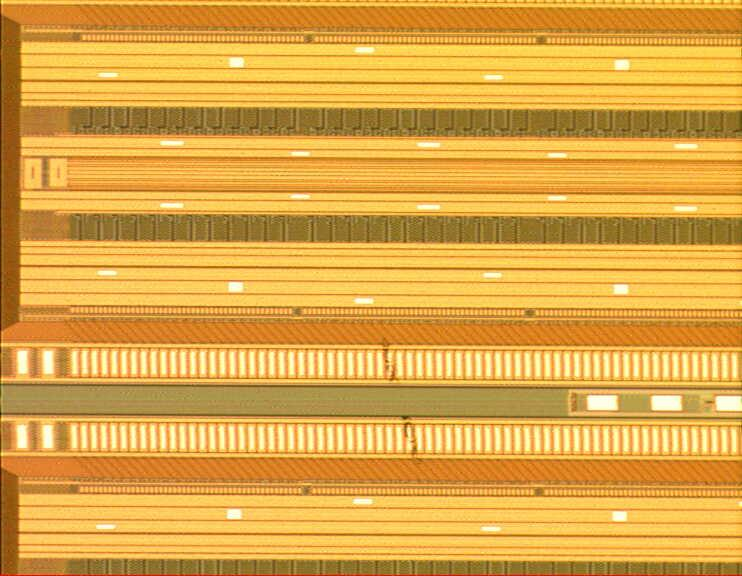SCRATCH: (364, 318, 436, 506)
